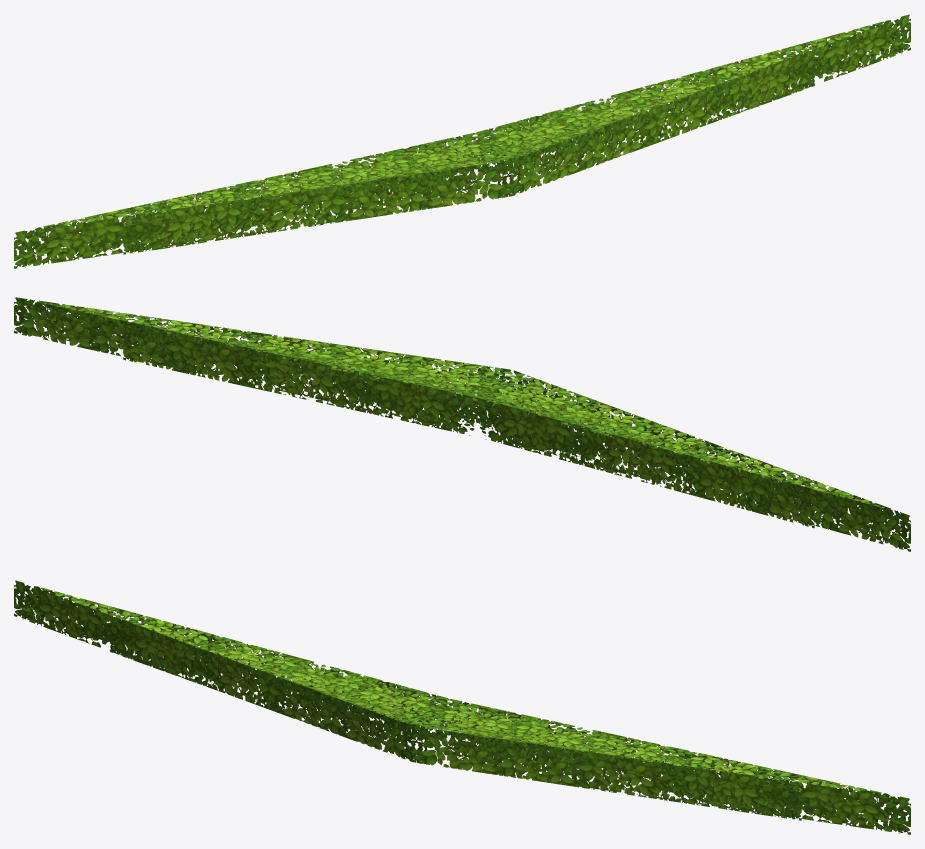
The model's file is TKZC_HuaPen_01.fbx.
The picture shows the model from 3 angles, top to bottom: view 1: azimuth 30°, elevation 25°; view 2: azimuth 150°, elevation 25°; view 3: azimuth 330°, elevation 25°; orthographic projection.
Parts seen in each view (by area): view 1: TKZC_HuaPen_01; view 2: TKZC_HuaPen_01; view 3: TKZC_HuaPen_01.
Boxes of the visible parts, x1,y1,x2,y2 form: TKZC_HuaPen_01: (14, 14, 910, 268); TKZC_HuaPen_01: (14, 297, 910, 551); TKZC_HuaPen_01: (14, 580, 910, 834).
Bounding box in the file's own units: 30.72 × 1.39 × 2.97.
